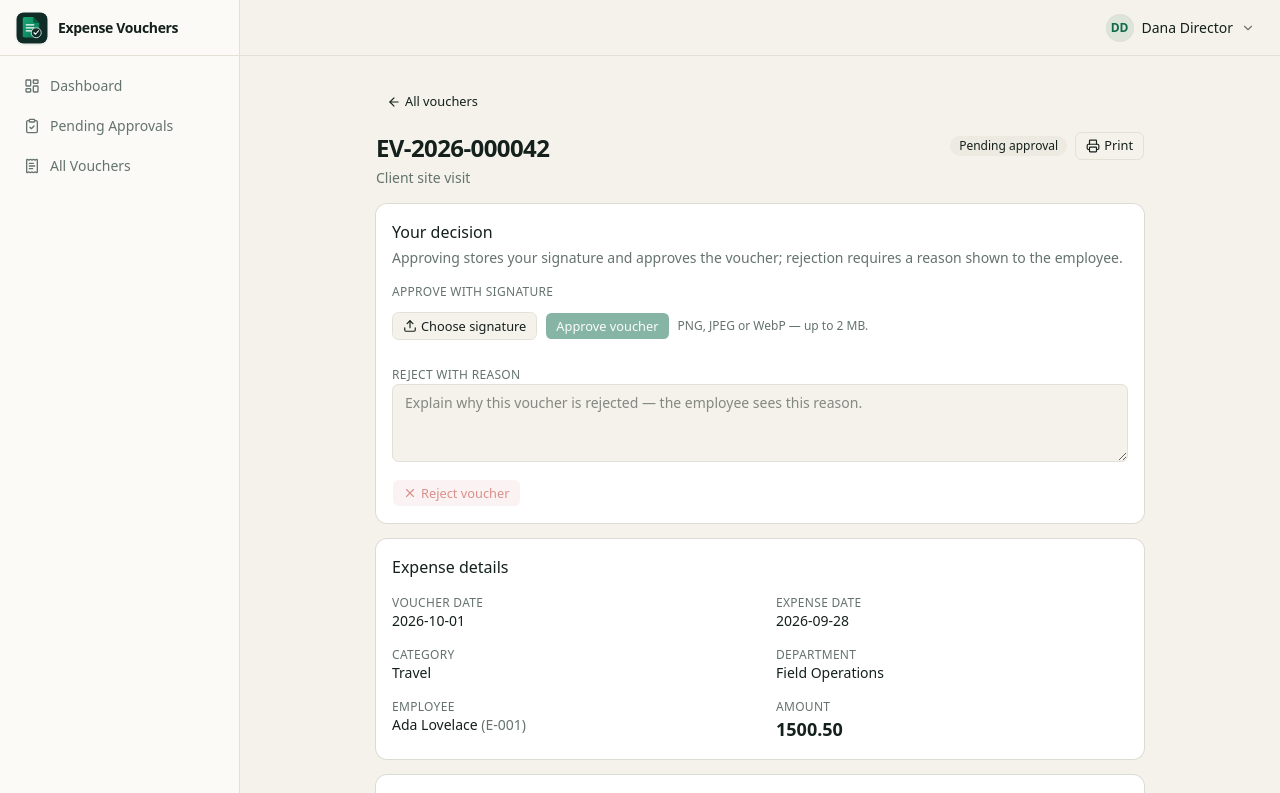
Test case: voucher pages › lets the director reject with a typed reason
Check: the heading "EV-2026-000042" is shown, box [376,132,549,164]
Type "Needs original bills" into the text box labelled "Reject with reason" at point(760, 423), box [392,384,1128,462]
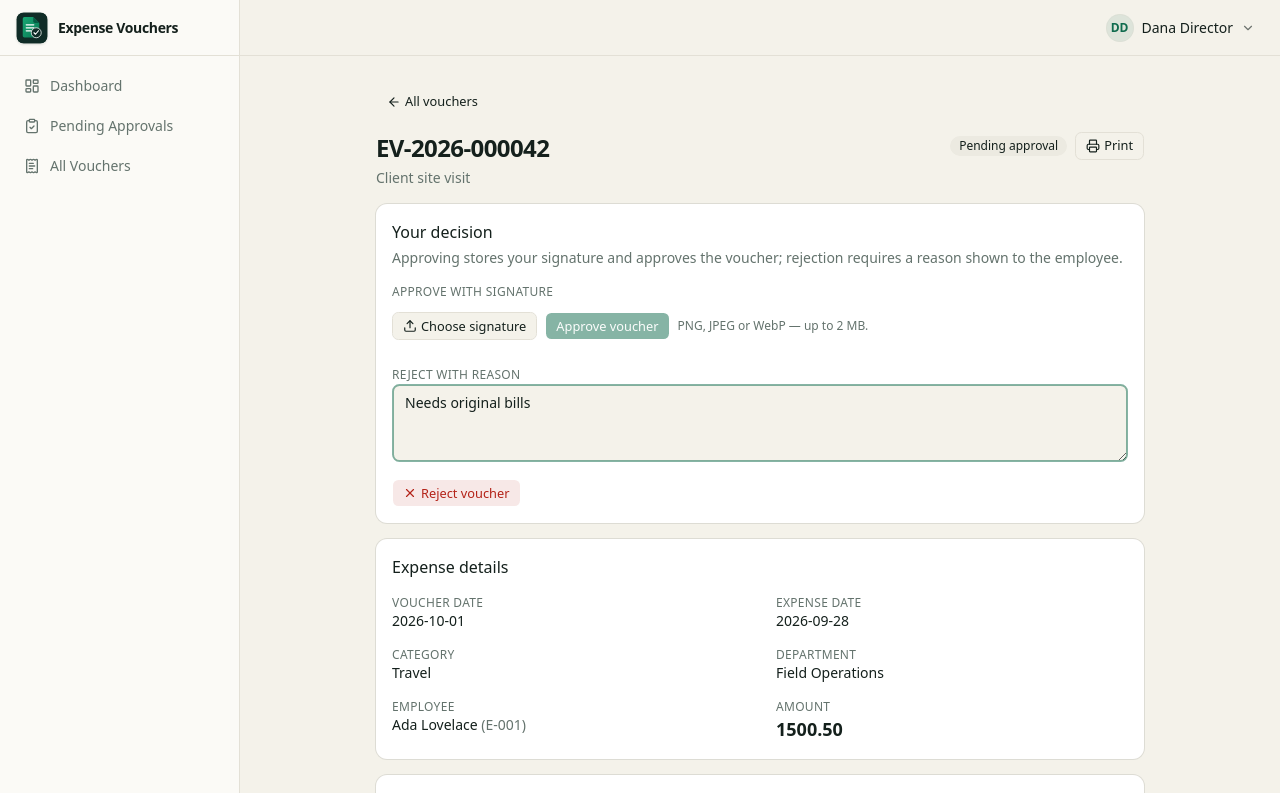
Click the button "Reject voucher" at point(456, 493), box [392,479,520,507]
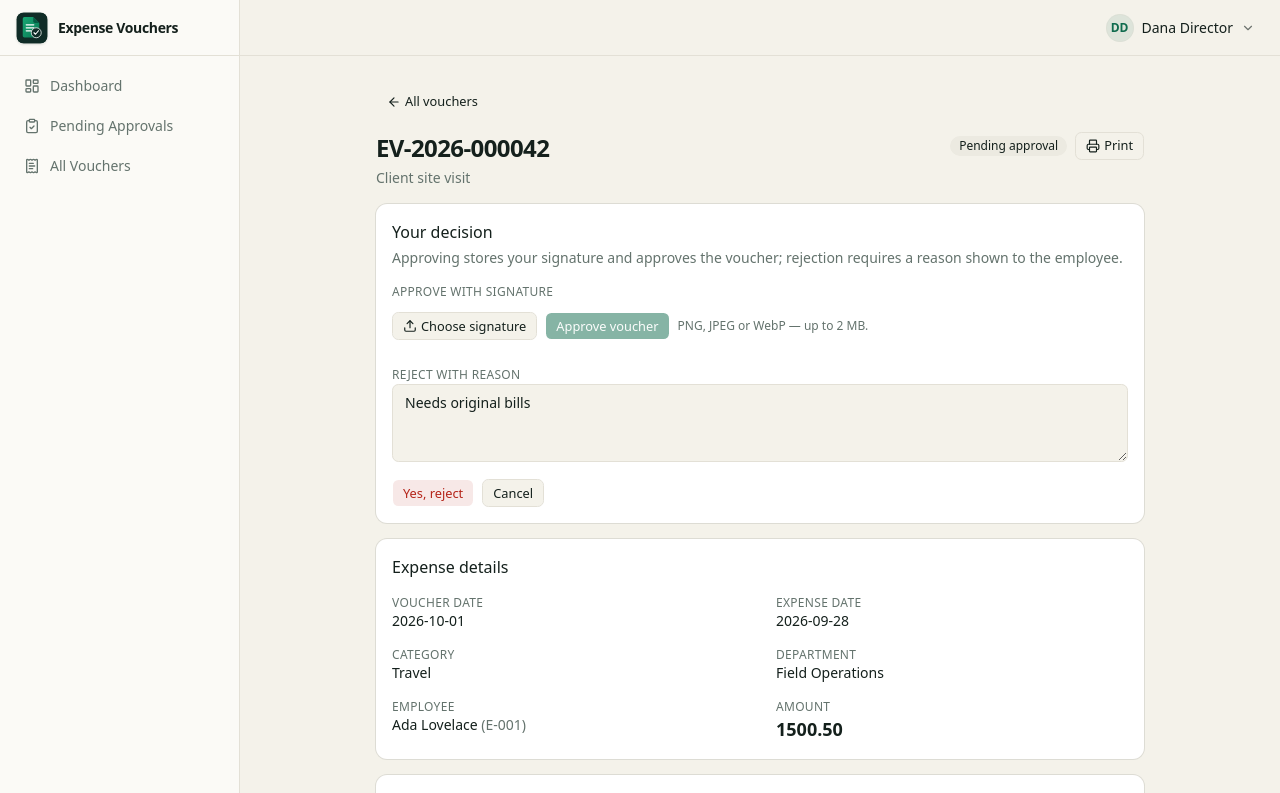
Click the button "Yes, reject" at point(433, 493), box [392,479,474,507]
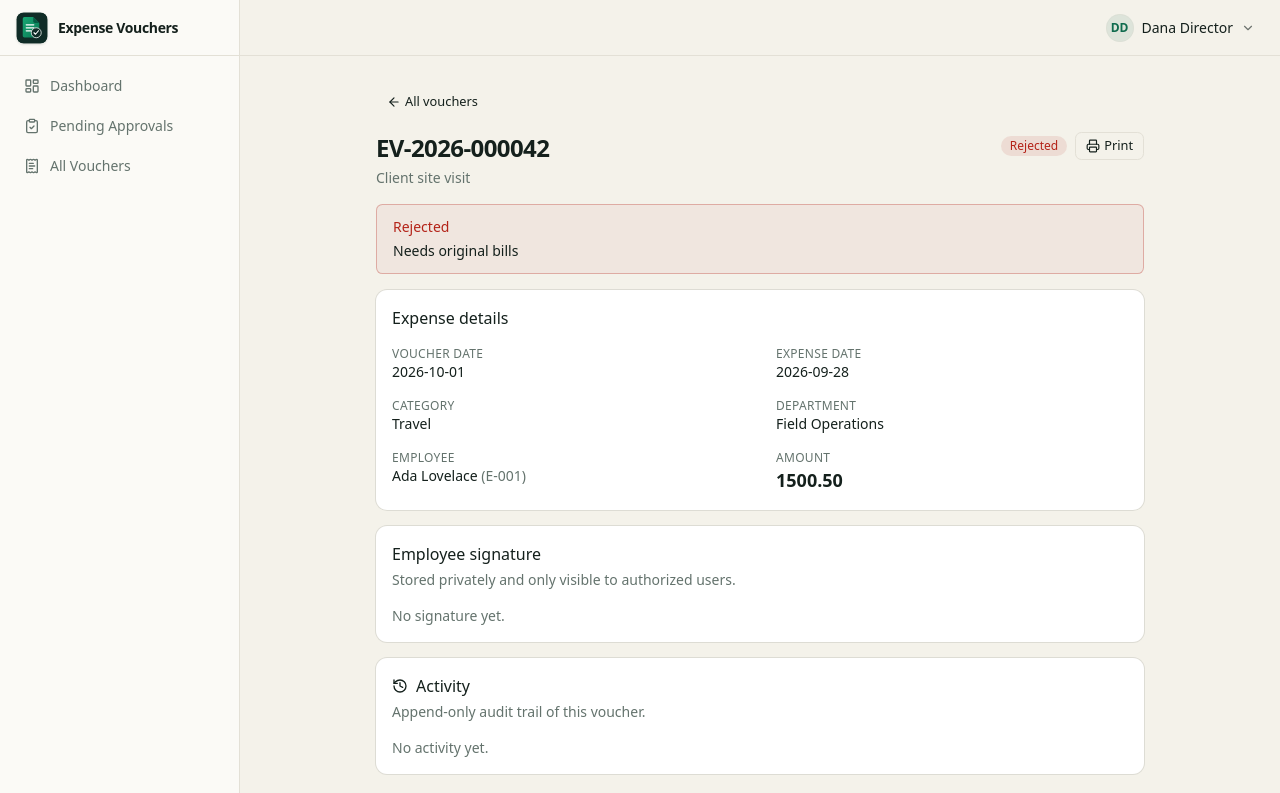
Check: the text "Rejected" next to "Print" is shown, box [1010,137,1058,154]
